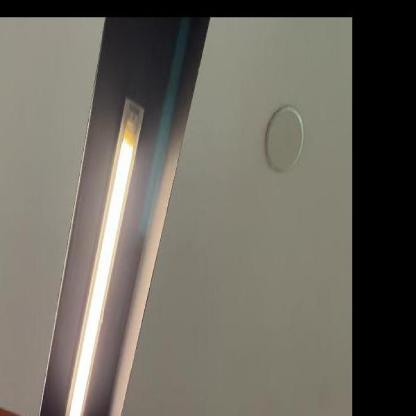light_on: (56, 86, 154, 415)
